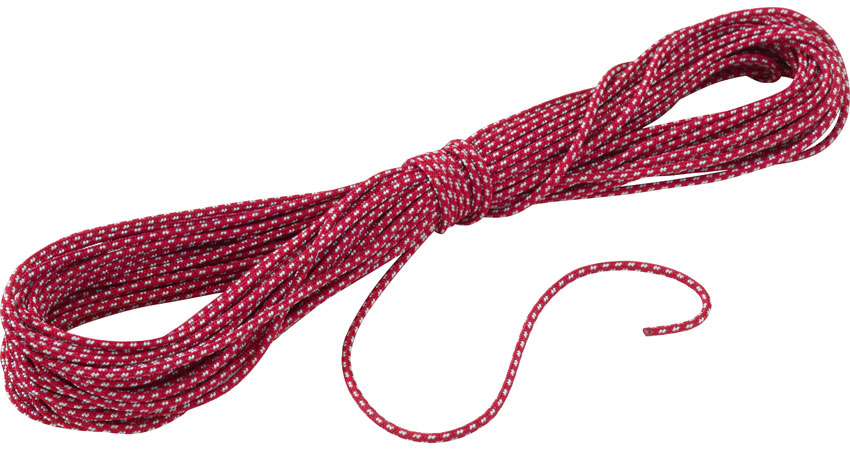Nonrec_Tangler: (1, 2, 849, 446)
